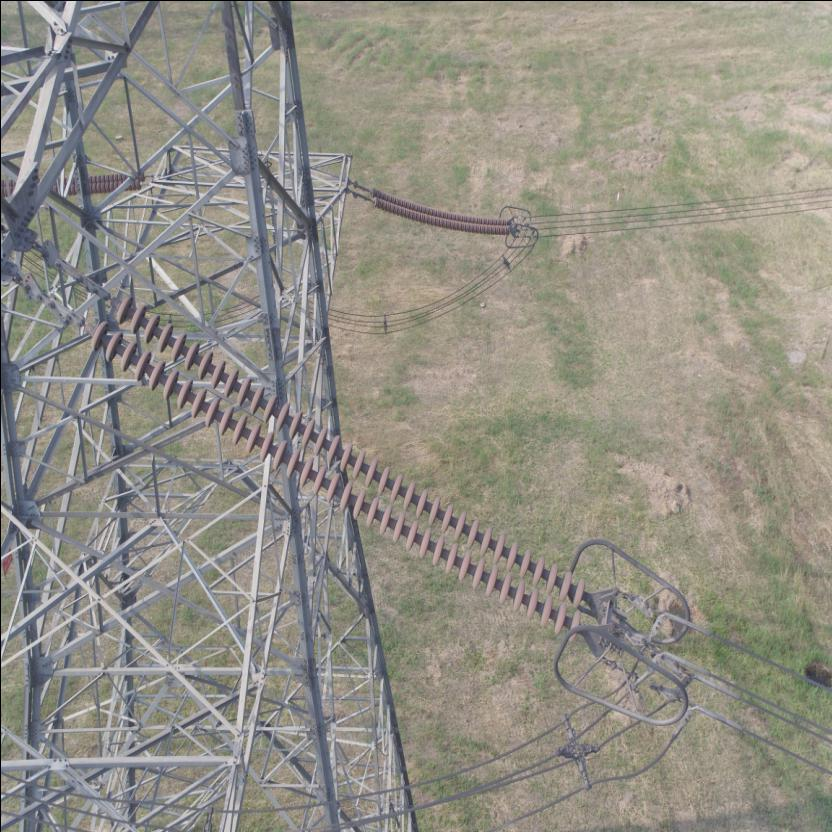insulator: (68, 276, 594, 644), (362, 180, 516, 235)
